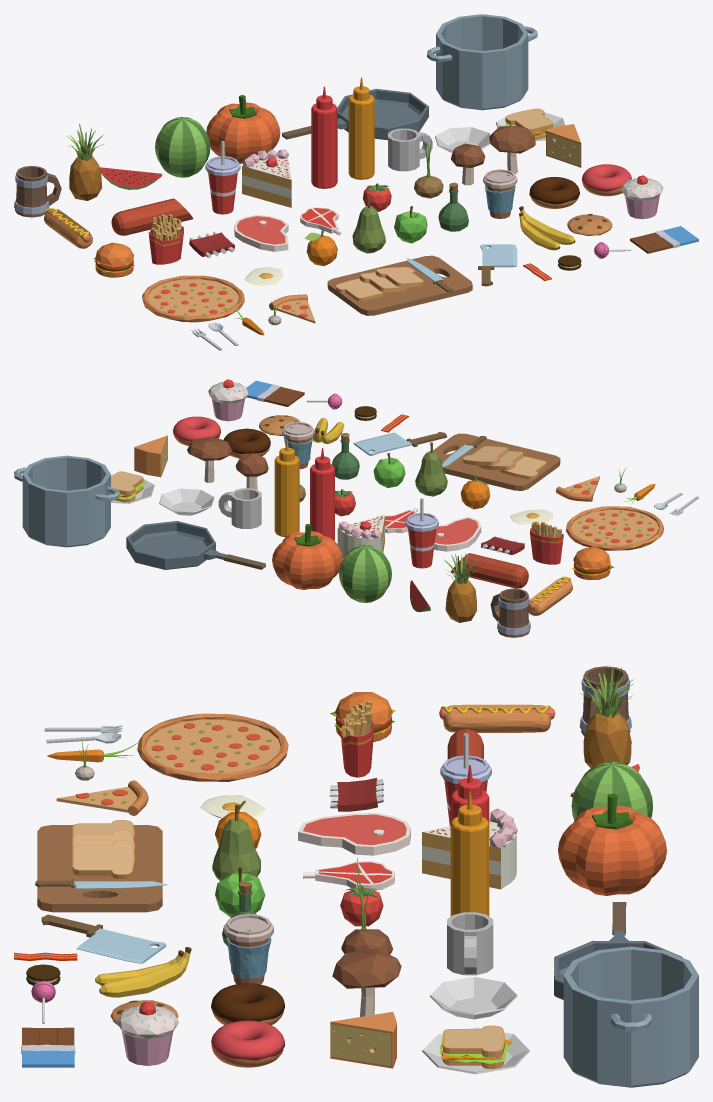
The model's file is FoodPack3.fbx.
3 renders of one model, top to bottom at view 1: azimuth 30°, elevation 25°; view 2: azimuth 150°, elevation 25°; view 3: azimuth 270°, elevation 25°, orthographic. The views are drawn at different scales.
Parts seen in each view (by area): view 1: Pan, Pizza1, Kitchen desk, Pumpkin, Pan2, Watermelon1, Ketchup, Mustard, Cake, Cup2, Pineapple, Steak (+33 smaller); view 2: Pan, Pan2, Pizza1, Pumpkin, Kitchen desk, Watermelon1, Mustard, Ketchup, Cup2, Pineapple, Sausage, Cola (+30 smaller); view 3: Pan, Pizza1, Pumpkin, Kitchen desk, Mustard, Steak, Cake, Pineapple, Cheese, Watermelon1, HotDog1, Cupcake (+33 smaller).
Part boxes in pixels (box(x1,y1,x2,y2)): Pan: box(427, 14, 537, 110); Pizza1: box(142, 275, 244, 322); Kitchen desk: box(327, 255, 472, 315); Pumpkin: box(206, 95, 280, 163); Pan2: box(282, 88, 428, 140); Watermelon1: box(155, 117, 210, 177); Ketchup: box(311, 86, 337, 188); Mustard: box(348, 77, 374, 179); Cake: box(242, 149, 291, 207); Cup2: box(14, 166, 61, 217); Pineapple: box(66, 124, 104, 200); Steak: box(234, 215, 288, 251); Pan: box(14, 455, 119, 547); Pan2: box(126, 521, 265, 569); Pizza1: box(566, 506, 663, 550); Pumpkin: box(272, 524, 342, 589); Kitchen desk: box(421, 433, 560, 490); Watermelon1: box(339, 545, 391, 602); Mustard: box(274, 439, 299, 536); Ketchup: box(310, 448, 334, 540); Cup2: box(490, 588, 530, 637); Pineapple: box(444, 553, 480, 622); Sausage: box(451, 553, 528, 588); Cola: box(405, 498, 438, 568); Pan: box(563, 946, 698, 1087); Pizza1: box(137, 713, 288, 781); Pumpkin: box(558, 793, 666, 895); Kitchen desk: box(37, 825, 162, 912); Mustard: box(450, 791, 489, 916); Steak: box(298, 813, 410, 855); Cake: box(422, 808, 517, 889); Pineapple: box(579, 667, 633, 767); Cheese: box(330, 1012, 396, 1068); Watermelon1: box(571, 761, 652, 819); HotDog1: box(439, 704, 555, 732); Cupcake: box(116, 1001, 178, 1065).
Bounding box in the file's own units: 25.04 × 4.58 × 19.05.
